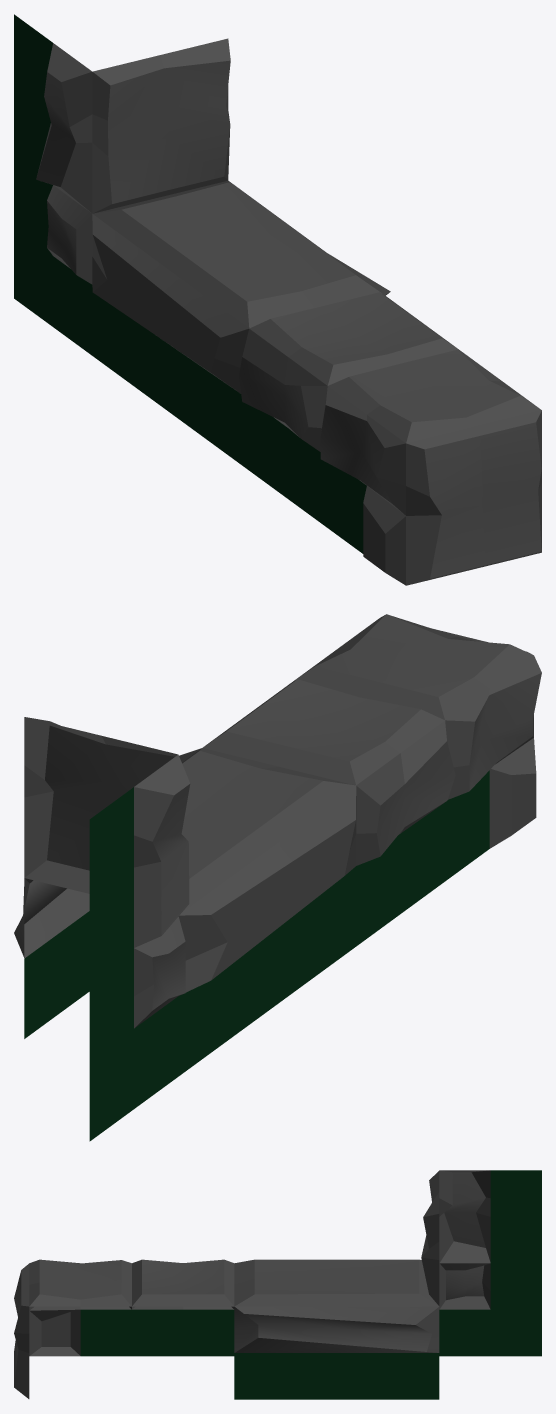
File: Modular_UpdatedColour.fbx
3 renders of one model, top to bottom at view 1: azimuth 30°, elevation 25°; view 2: azimuth 150°, elevation 25°; view 3: azimuth 270°, elevation 25°, orthographic. The views are drawn at different scales.
Parts seen in each view (by area): view 1: Geo_A_Large, Geo_B, Geo_D, Geo_A, Geo_C; view 2: Geo_A_Large, Geo_D, Geo_A, Geo_B, Geo_C; view 3: Geo_A_Large, Geo_B, Geo_D, Geo_A, Geo_C.
Boxes of the visible parts, <box> form: Geo_A_Large: <box>92,180,390,470</box>; Geo_B: <box>320,349,541,585</box>; Geo_D: <box>14,14,230,213</box>; Geo_A: <box>239,292,461,527</box>; Geo_C: <box>14,156,92,355</box>; Geo_A_Large: <box>14,748,356,1076</box>; Geo_D: <box>24,717,190,979</box>; Geo_A: <box>202,679,455,946</box>; Geo_B: <box>293,614,541,881</box>; Geo_C: <box>89,917,185,1141</box>; Geo_A_Large: <box>234,1259,439,1399</box>; Geo_B: <box>14,1259,131,1398</box>; Geo_D: <box>421,1170,541,1305</box>; Geo_A: <box>132,1259,234,1356</box>; Geo_C: <box>439,1263,541,1356</box>.
Size of the model in its own units: 5.17 by 8.01 by 20.6.
